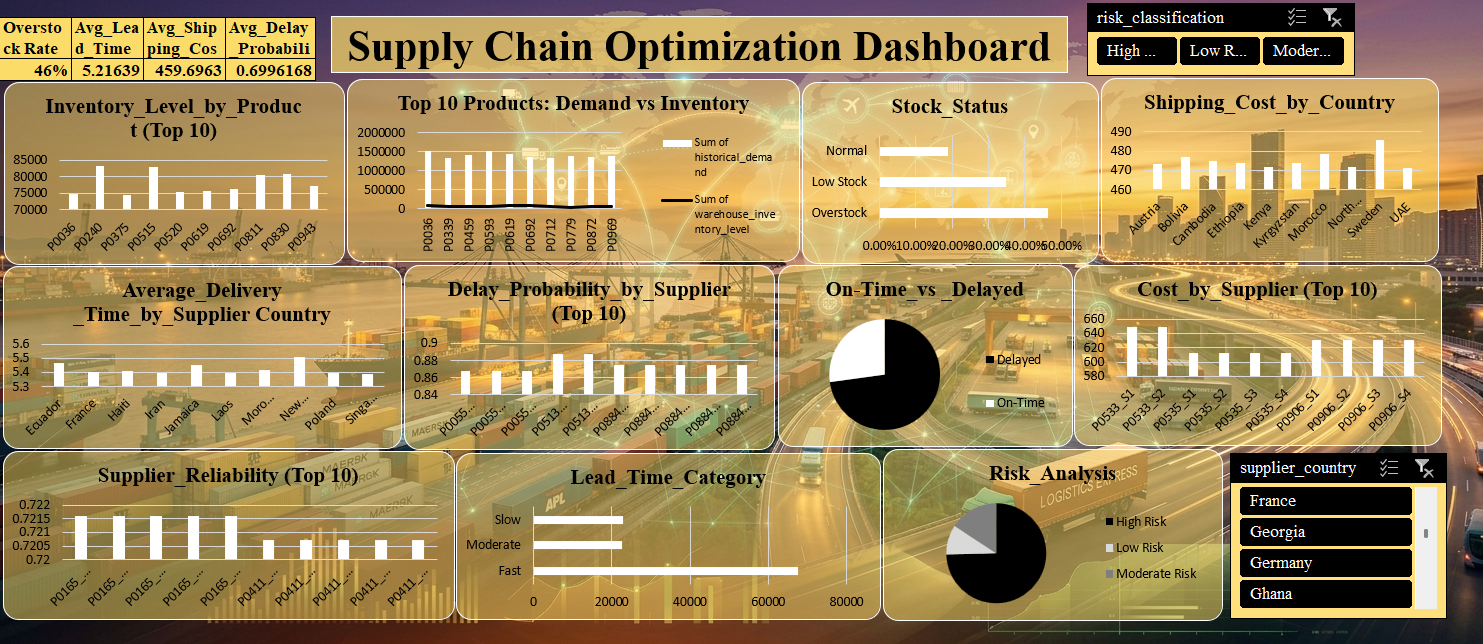

This screenshot's page, from the dashboard's own definition file:
{"tool":"tableau","page":{"name":"Dashboard ","canvas":[1000,1000],"units":"permille","ordinal":0},"visuals":[{"type":"legend","title":"Sheet 2","param":"[federated.0t21jqi0qymsg01ay1w3l1t6n8y2].[:Measure Names]","box":[876.3,10.6,117,84.5]},{"type":"title","box":[23.7,15.3,829.6,73.9]},{"type":"worksheet","title":"Sheet 12","mark":"Automatic","box":[752.6,65.7,117,140.8]},{"type":"worksheet","title":"Sheet 10","mark":"Automatic","box":[324.4,92.7,240,77.5]},{"type":"legend","title":"Sheet 3","param":"[federated.0t21jqi0qymsg01ay1w3l1t6n8y2].[none:Stock_status:nk]","box":[876.3,95.1,117,109.2]},{"type":"worksheet","title":"Sheet 3","mark":"Pie","box":[590.4,105.6,160,223]},{"type":"worksheet","title":"Sheet 1","mark":"Automatic","rows":["product_id"],"cols":["warehouse_inventory_level"],"box":[8.9,106.8,294.1,277]},{"type":"worksheet","title":"Sheet 6","mark":"Automatic","rows":["Delivery_status"],"cols":["Delivery_status"],"box":[305.9,181.9,281.5,201.9]},{"type":"legend","title":"Sheet 3","param":"[federated.0t21jqi0qymsg01ay1w3l1t6n8y2].[cnt:Stock_status:qk]","box":[876.3,204.2,117,59.9]},{"type":"worksheet","title":"Sheet 11","mark":"Automatic","box":[752.6,210.1,118.5,113.9]},{"type":"legend","title":"Sheet 4","param":"[federated.0t21jqi0qymsg01ay1w3l1t6n8y2].[avg:lead_time_days:qk]","box":[876.3,264.1,117,85.7]},{"type":"worksheet","title":"Sheet 5","mark":"Automatic","box":[591.1,334.5,281.5,326.3]},{"type":"legend","title":"Sheet 5","param":"[federated.0t21jqi0qymsg01ay1w3l1t6n8y2].[avg:delay_probability:qk]","box":[876.3,349.8,117,85.7]},{"type":"worksheet","title":"Sheet 8","mark":"Automatic","rows":["supplier_id"],"cols":["supplier_reliability_score"],"box":[318.5,387.3,269.6,275.8]},{"type":"worksheet","title":"Sheet 2","mark":"Automatic","rows":["product_id"],"cols":["warehouse_inventory_level","historical_demand"],"box":[8.2,388.5,309.6,275.8]},{"type":"legend","title":"Sheet 7","param":"[federated.0t21jqi0qymsg01ay1w3l1t6n8y2].[avg:shipping_costs:qk]","box":[876.3,435.4,117,85.7]},{"type":"legend","title":"Sheet 9","param":"[federated.0t21jqi0qymsg01ay1w3l1t6n8y2].[none:risk_classification:nk]","box":[876.3,521.1,117,109.2]},{"type":"worksheet","title":"Sheet 9","mark":"Circle","box":[337,666.7,207.4,319.2]},{"type":"worksheet","title":"Sheet 7","mark":"Automatic","box":[551.1,666.7,321.5,319.2]},{"type":"worksheet","title":"Sheet 4","mark":"Automatic","box":[8.2,667.8,323,319.2]}]}

Visuals, with their boxes on the dashboard's canvas, which has no fixed pixel size, in thousandths of its width and height (x1, y1, x2, y2). These are canvas units, not pixel positions in the 1483x644 screenshot, which may show the page scaled, cropped or inside an application window:
"Sheet 2" legend: crop(876, 11, 993, 95)
title: crop(24, 15, 853, 89)
"Sheet 12" worksheet: crop(753, 66, 870, 206)
"Sheet 10" worksheet: crop(324, 93, 564, 170)
"Sheet 3" legend: crop(876, 95, 993, 204)
"Sheet 3" worksheet (Pie marks): crop(590, 106, 750, 329)
"Sheet 1" worksheet: crop(9, 107, 303, 384)
"Sheet 6" worksheet: crop(306, 182, 587, 384)
"Sheet 3" legend: crop(876, 204, 993, 264)
"Sheet 11" worksheet: crop(753, 210, 871, 324)
"Sheet 4" legend: crop(876, 264, 993, 350)
"Sheet 5" worksheet: crop(591, 334, 873, 661)
"Sheet 5" legend: crop(876, 350, 993, 436)
"Sheet 8" worksheet: crop(318, 387, 588, 663)
"Sheet 2" worksheet: crop(8, 388, 318, 664)
"Sheet 7" legend: crop(876, 435, 993, 521)
"Sheet 9" legend: crop(876, 521, 993, 630)
"Sheet 9" worksheet (Circle marks): crop(337, 667, 544, 986)
"Sheet 7" worksheet: crop(551, 667, 873, 986)
"Sheet 4" worksheet: crop(8, 668, 331, 987)
